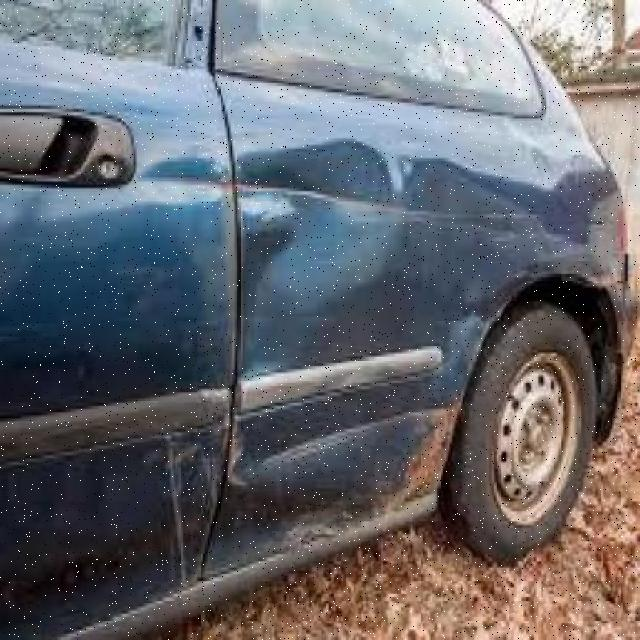damage: (158, 394, 442, 591), (144, 143, 560, 247), (271, 378, 463, 554)
